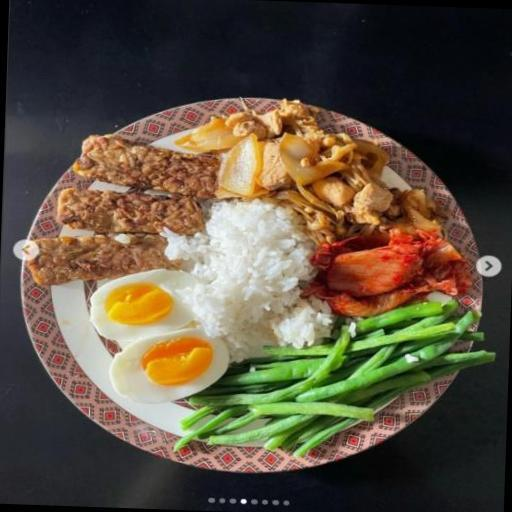buncis_rebus: (221, 350, 422, 471)
nasi_putih: (185, 196, 321, 342)
tempe_goreng: (70, 135, 224, 193), (48, 190, 202, 238)
